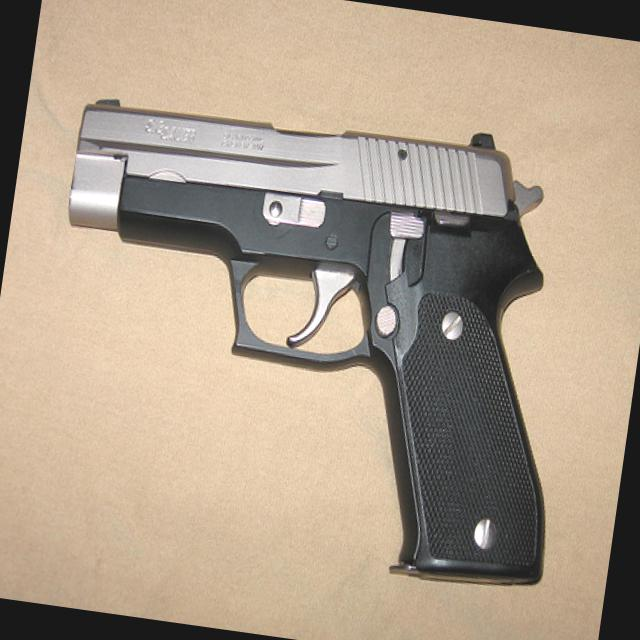handgun: (22, 72, 603, 590)
